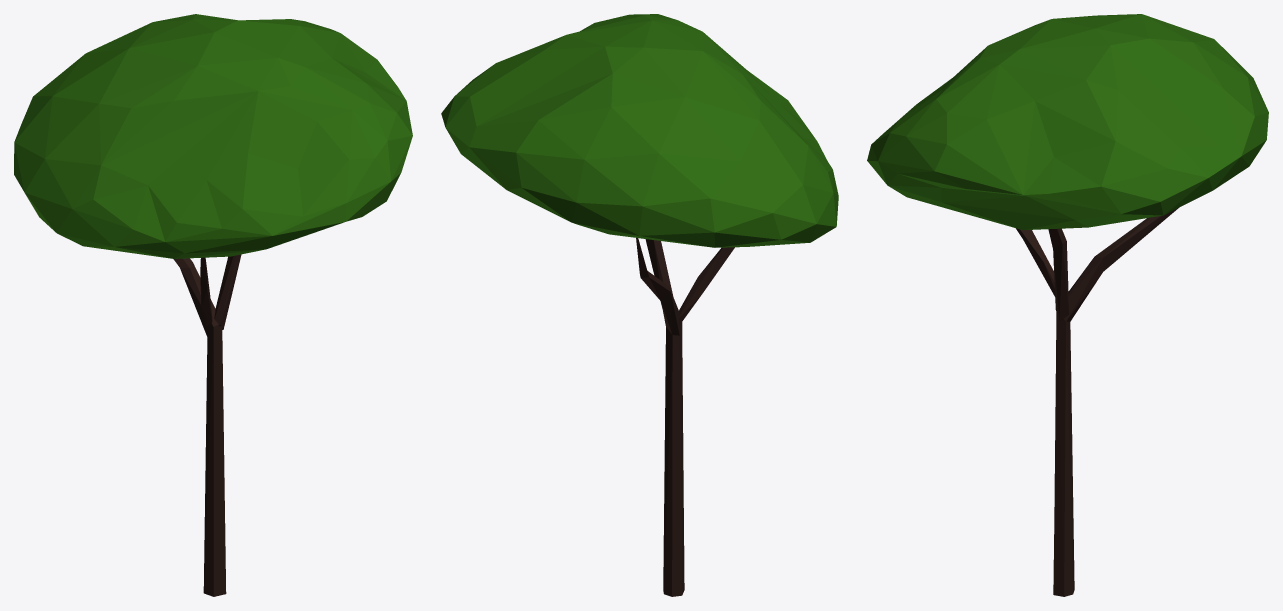
Rendered from SM_tree_02.fbx.
The picture shows the model from 3 angles, left to right: view 1: azimuth 30°, elevation 25°; view 2: azimuth 150°, elevation 25°; view 3: azimuth 270°, elevation 25°; orthographic projection. The views are drawn at different scales.
Visible parts, largest first — view 1: Object026; view 2: Object026; view 3: Object026.
Part boxes in pixels (x1,y1,x2,y2): Object026: [14, 14, 412, 596]; Object026: [441, 14, 838, 596]; Object026: [867, 14, 1268, 596].
Size of the model in its own units: 206 by 306 by 195.
